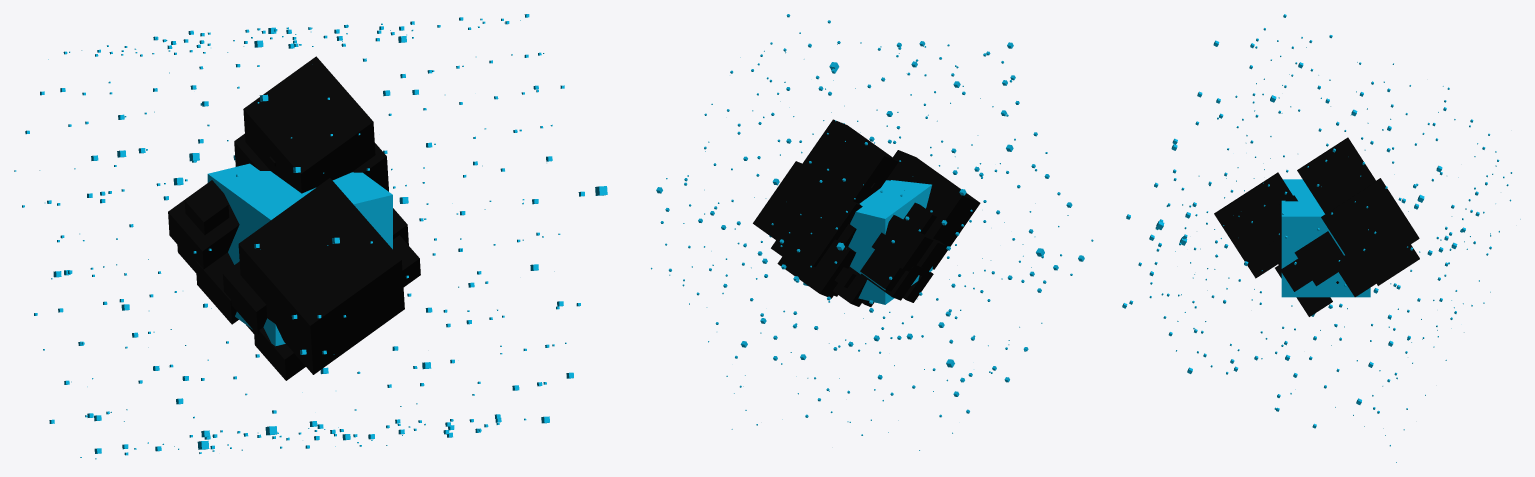
Rendered from Planet25.glb.
3 views of the same model, side by side, from view 1: azimuth 30°, elevation 25°; view 2: azimuth 150°, elevation 25°; view 3: azimuth 270°, elevation 25° (orthographic). The views are drawn at different scales.
Visible parts, largest first — view 1: Planet_25_fix; view 2: Planet_25_fix; view 3: Planet_25_fix.
Boxes of the visible parts, box(x1,y1,x2,y2) form: Planet_25_fix: box(14, 14, 607, 459); Planet_25_fix: box(651, 14, 1093, 450); Planet_25_fix: box(1122, 14, 1520, 462).
Size of the model in its own units: 3.24 by 4.16 by 4.19.
